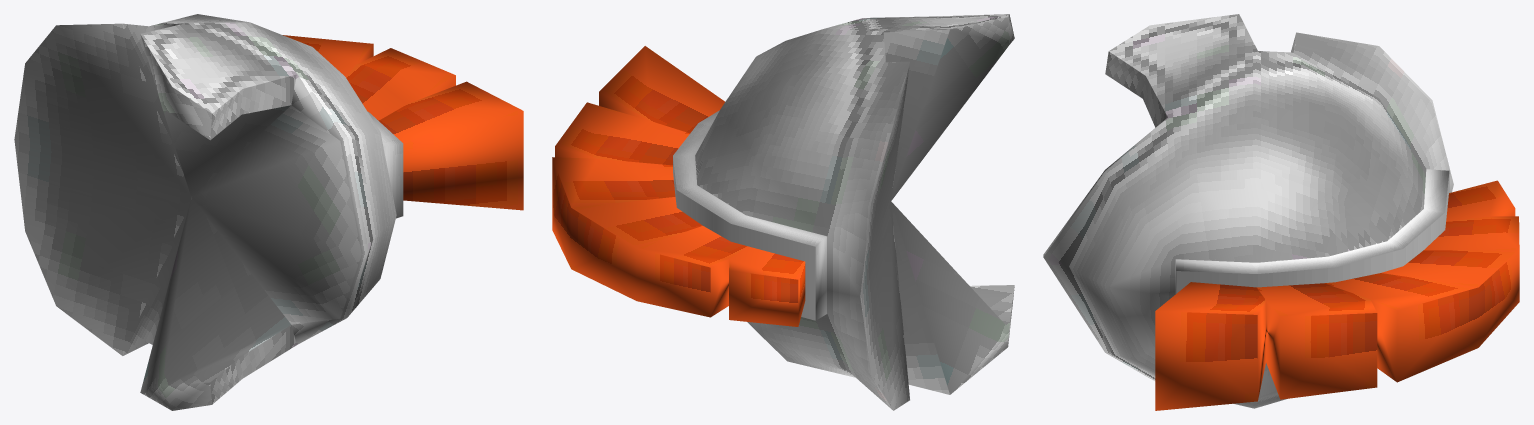
Rendered from hlmt_helmet_roman.dae.
3 views of the same model, side by side, from view 1: azimuth 30°, elevation 25°; view 2: azimuth 150°, elevation 25°; view 3: azimuth 270°, elevation 25° (orthographic).
Visible parts, largest first — view 1: hlmt_helmet_roman; view 2: hlmt_helmet_roman; view 3: hlmt_helmet_roman.
Boxes of the visible parts, box(x1,y1,x2,y2) form: hlmt_helmet_roman: box(14, 14, 523, 410); hlmt_helmet_roman: box(552, 14, 1014, 410); hlmt_helmet_roman: box(1043, 14, 1519, 410).
Bounding box in the file's own units: 26.85 × 25.41 × 30.46.
Materials: 2 (2 with a texture image).
